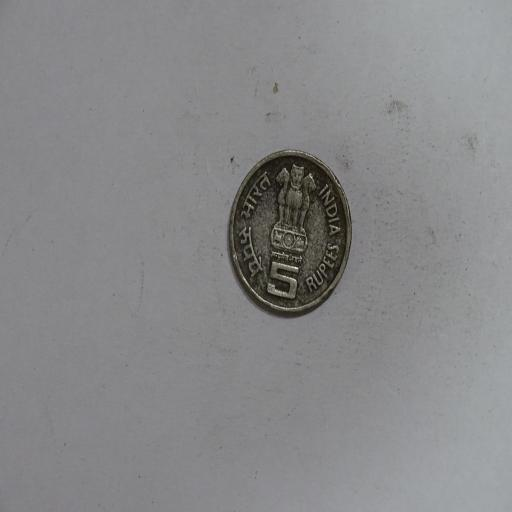rupee5: (226, 147, 351, 315)
